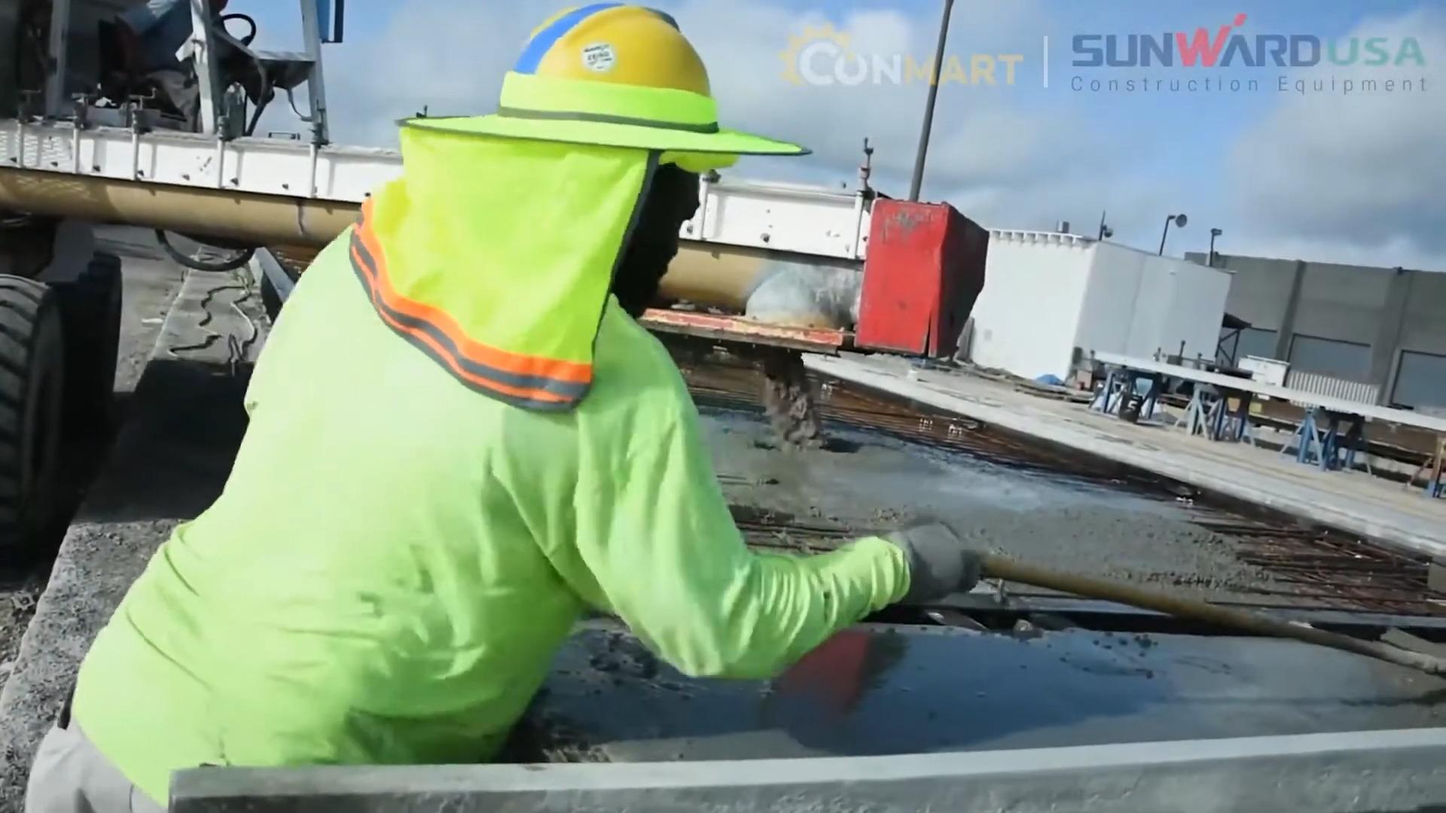Gloves: (885, 508, 966, 621)
Helmet: (480, 0, 796, 169)
Person: (203, 0, 787, 758)
no-vest: (271, 250, 614, 689)
